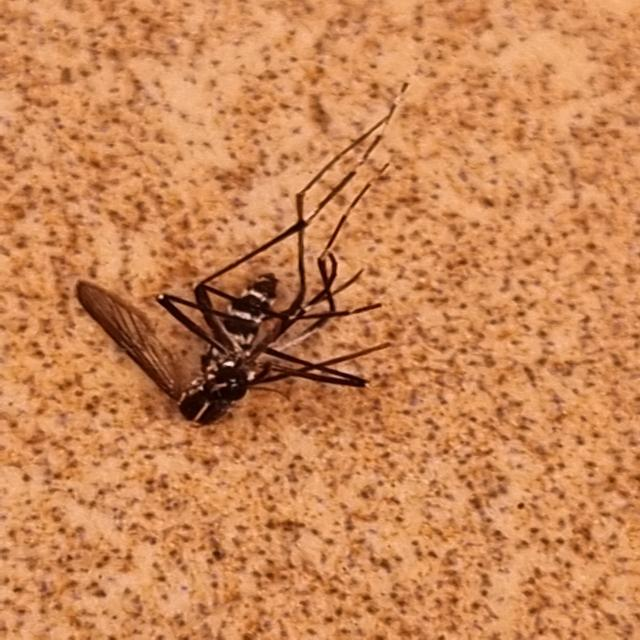albopictus: (74, 68, 426, 432)
